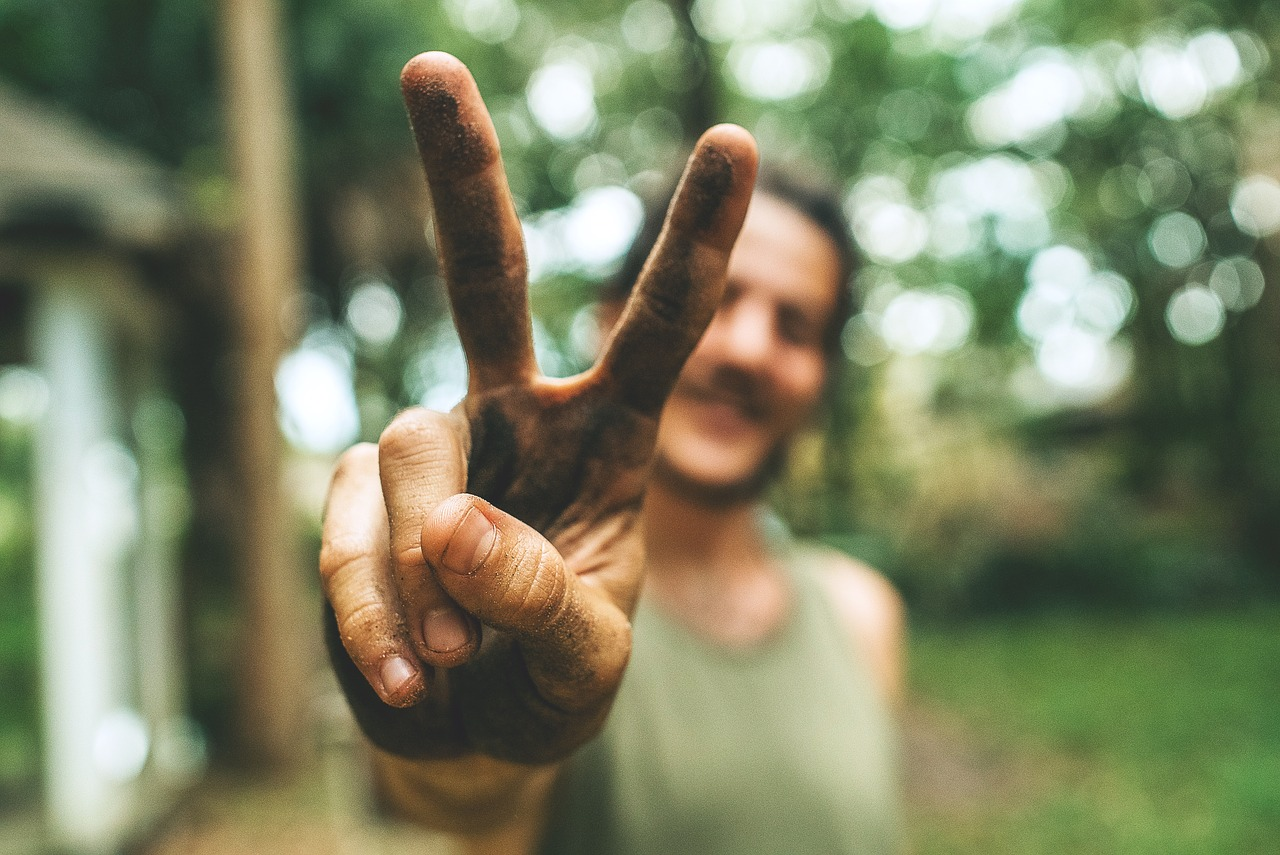peacesign: (299, 40, 767, 799)
